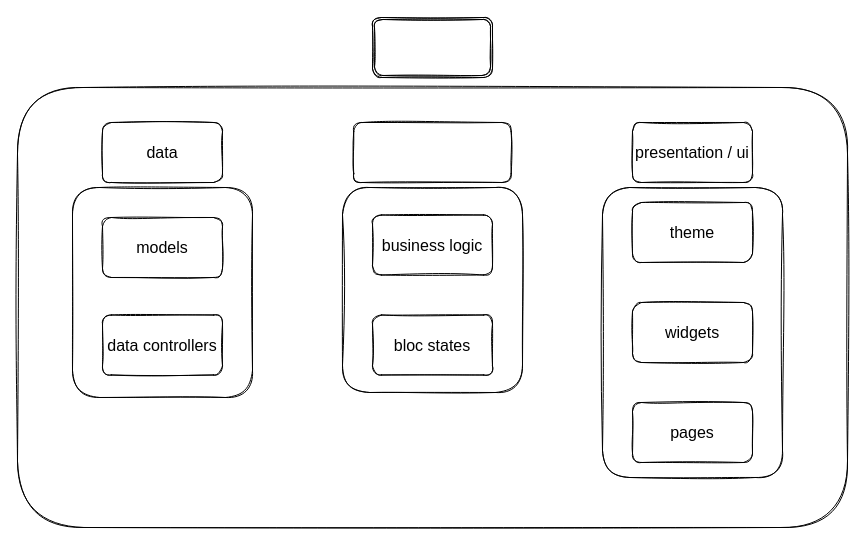
Some shapes in this 865 by 545 pixel diagram are drawn without their labels. The centre of each missing label's shape, as x and y in pixels:
core: (x=432, y=47)
state management/ domain: (x=432, y=152)
